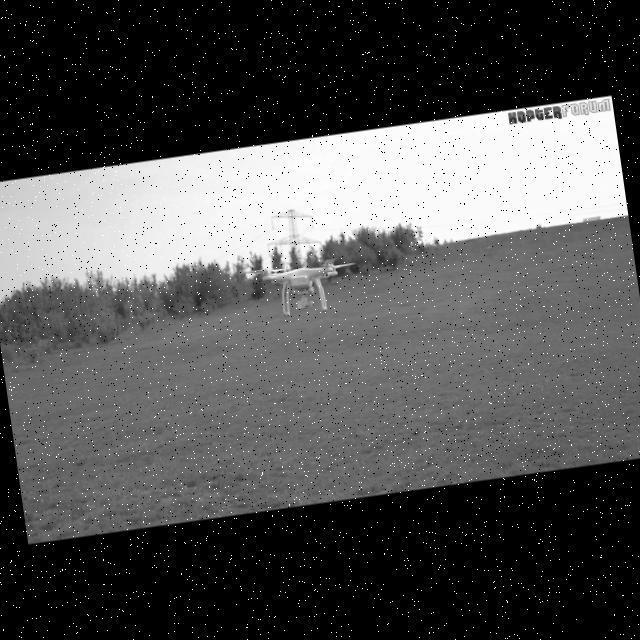Drons: (245, 253, 362, 322)
